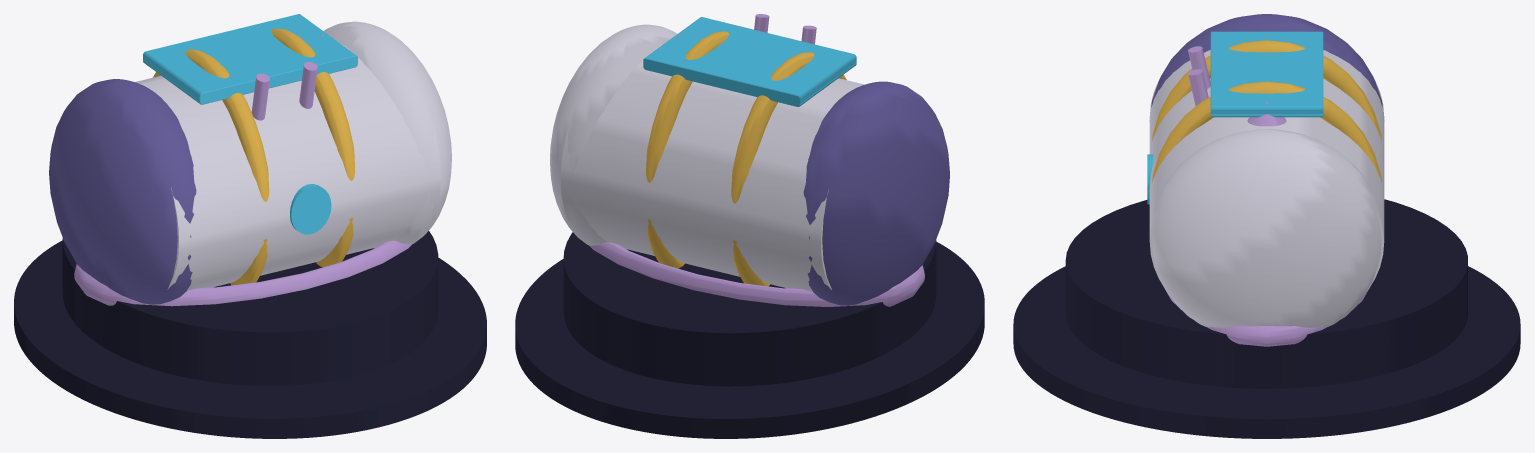
File: 0767_天气与气候图鉴_极轨气象卫星.glb
The picture shows the model from 3 angles, left to right: view 1: azimuth 30°, elevation 25°; view 2: azimuth 150°, elevation 25°; view 3: azimuth 270°, elevation 25°; orthographic projection.
Visible parts, largest first — view 1: card_0767; view 2: card_0767; view 3: card_0767.
Part boxes in pixels (bbox=[...]): card_0767: bbox=[14, 14, 486, 438]; card_0767: bbox=[515, 14, 984, 438]; card_0767: bbox=[1013, 14, 1520, 438].
Size of the model in its own units: 1.44 by 1 by 1.62.
